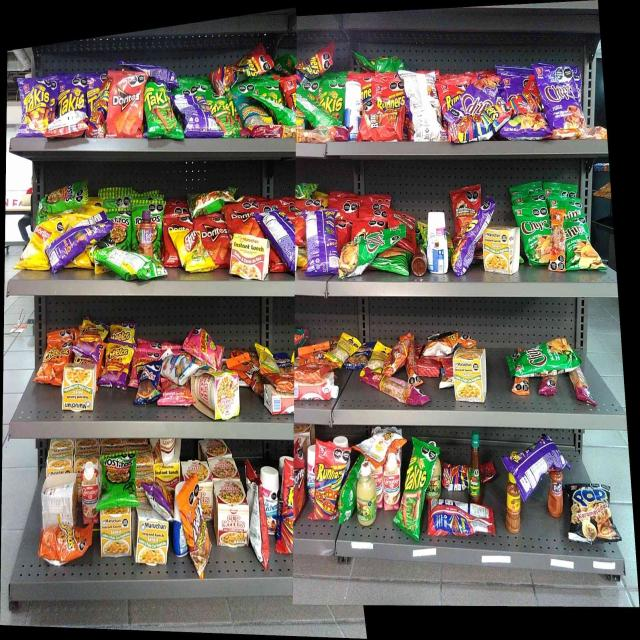bitzEnchilado95: (550, 208, 566, 267)
bitzHabanero: (364, 371, 404, 394), (406, 335, 422, 383), (572, 372, 594, 402), (541, 377, 560, 398)
bokadosCacahuates: (138, 364, 160, 401)
botaneraChilito: (506, 475, 520, 534)
cheetosFlaminHot: (106, 343, 129, 389), (80, 324, 104, 352)
cheetosOriginal: (42, 526, 92, 556), (43, 341, 72, 366)
chipsFuego: (546, 76, 579, 127), (505, 116, 545, 136)
chipsJalapeno: (512, 342, 580, 370), (522, 204, 548, 265), (566, 219, 593, 271), (346, 230, 386, 262)
churrumais: (196, 328, 219, 364)
delPrimoSalsa: (357, 462, 378, 524)
doritosNacho: (110, 75, 142, 134), (203, 220, 228, 256), (230, 206, 258, 234), (294, 448, 306, 513), (166, 218, 193, 229)
fritosLimon: (181, 230, 201, 268)
leoCacahuates: (163, 350, 190, 384)
leoMix: (185, 490, 208, 570)
maruchanPollo: (483, 226, 520, 274), (453, 350, 486, 401), (136, 520, 169, 568), (100, 510, 131, 557), (62, 369, 95, 411)
maruchanRes: (231, 238, 270, 276)
nestleCarnation: (81, 462, 98, 522), (300, 378, 340, 403), (383, 454, 400, 509)
nestleLechera: (426, 211, 448, 273), (260, 468, 278, 534), (345, 83, 362, 141), (307, 447, 315, 505)
nissinCamaron: (213, 372, 241, 420)
nissinRes: (220, 482, 249, 548)
popKarameladas: (571, 485, 610, 541)
productoAtras: (406, 71, 442, 140), (431, 505, 490, 535), (181, 97, 212, 135)
rancheritos: (455, 186, 480, 232), (365, 113, 402, 138)
runners: (316, 449, 342, 518), (218, 54, 258, 82), (460, 109, 500, 135), (375, 83, 405, 112), (300, 49, 332, 73), (98, 82, 110, 134), (444, 466, 466, 492), (443, 84, 461, 109)
sabritasOriginal: (24, 224, 52, 264)
salsaBufalo: (467, 430, 482, 502)
semillasCalabaza: (332, 341, 358, 362), (258, 345, 277, 371), (373, 348, 386, 371), (358, 344, 372, 361)
semillasGirasol: (238, 100, 270, 124)
tajinDulce: (548, 467, 564, 518), (140, 209, 153, 255)
takisFuego: (306, 212, 338, 268), (21, 81, 50, 131), (58, 82, 86, 112), (262, 212, 294, 237), (89, 76, 98, 111)
takisOriginal: (400, 453, 428, 532), (144, 87, 174, 135), (318, 84, 345, 115), (214, 98, 232, 134)
tostitos: (104, 453, 138, 506), (46, 184, 82, 210), (110, 212, 130, 250)
